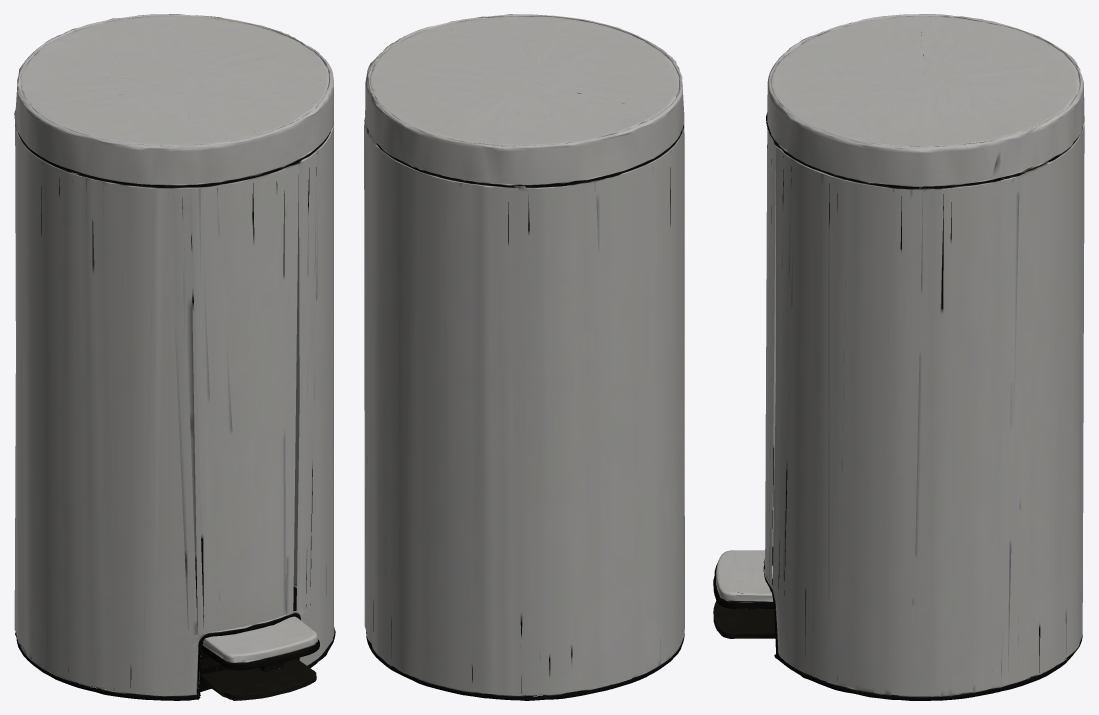
Rendered from desktop.glb.
The picture shows the model from 3 angles, left to right: view 1: azimuth 30°, elevation 25°; view 2: azimuth 150°, elevation 25°; view 3: azimuth 270°, elevation 25°; orthographic projection.
Visible parts, largest first — view 1: trashcan; view 2: trashcan; view 3: trashcan.
Boxes of the visible parts, bbox=[...] form: trashcan: bbox=[14, 14, 335, 700]; trashcan: bbox=[364, 14, 684, 700]; trashcan: bbox=[713, 14, 1084, 700].
Bounding box in the file's own units: 0.3428 × 0.6498 × 0.3955.
1 material, 1 textured.
